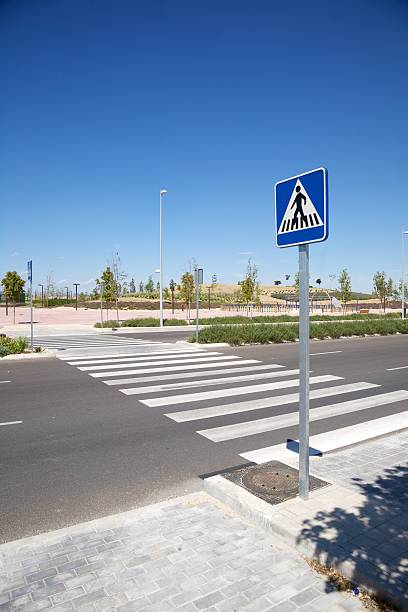yaya_gecidi: (270, 167, 328, 247)
